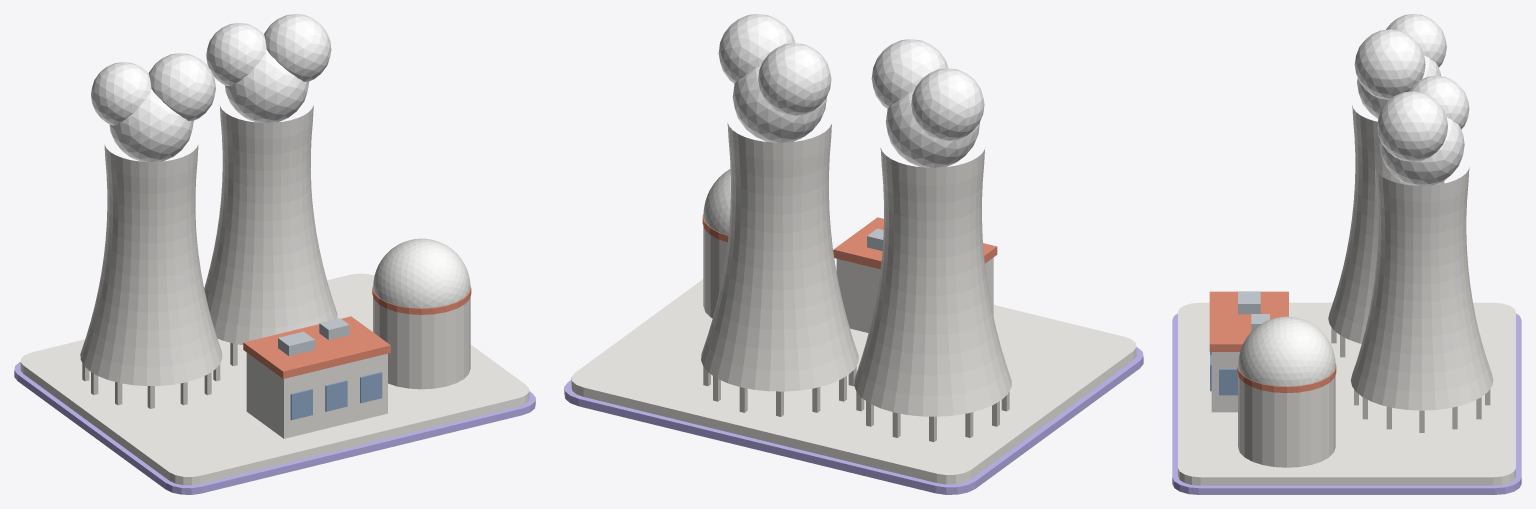
The model's file is nuclear.glb.
The picture shows the model from 3 angles, left to right: view 1: azimuth 30°, elevation 25°; view 2: azimuth 150°, elevation 25°; view 3: azimuth 270°, elevation 25°; orthographic projection. The views are drawn at different scales.
Parts seen in each view (by area): view 1: concrete, base, steam, rim_8b7ff0, white, red, window, concrete_dark, metal; view 2: concrete, base, steam, rim_8b7ff0, concrete_dark, red, white; view 3: concrete, base, steam, rim_8b7ff0, white, red, concrete_dark, metal, window.
Part boxes in pixels (x1,y1,x2,y2): concrete: [80, 105, 470, 438]; base: [20, 273, 529, 485]; steam: [91, 14, 331, 161]; rim_8b7ff0: [14, 362, 535, 494]; white: [373, 238, 470, 307]; red: [243, 285, 471, 378]; window: [290, 372, 382, 420]; concrete_dark: [82, 343, 237, 408]; metal: [278, 318, 349, 356]; concrete: [701, 123, 1011, 416]; base: [571, 266, 1136, 484]; steam: [718, 14, 984, 167]; rim_8b7ff0: [564, 347, 1143, 494]; concrete_dark: [703, 366, 1009, 441]; red: [702, 213, 997, 269]; white: [703, 169, 730, 234]; concrete: [1211, 105, 1493, 467]; base: [1178, 302, 1515, 485]; steam: [1354, 14, 1469, 185]; rim_8b7ff0: [1172, 313, 1521, 494]; white: [1238, 316, 1335, 385]; red: [1209, 291, 1336, 393]; concrete_dark: [1331, 327, 1490, 432]; metal: [1238, 291, 1269, 331]; window: [1210, 352, 1237, 395].
Bounding box in the file's own units: 11.3 × 9.91 × 9.3.
